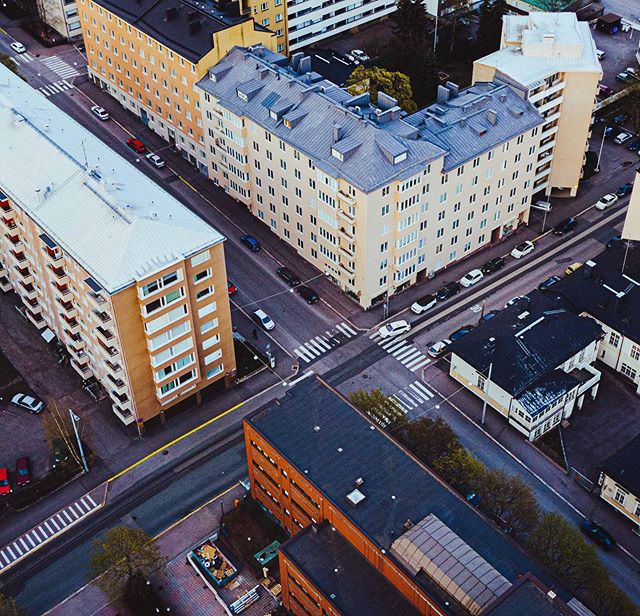building: (1, 72, 237, 429), (210, 53, 548, 287), (87, 1, 275, 161)
crosswalk: (295, 315, 360, 367), (368, 319, 433, 371), (368, 372, 433, 424)
street: (25, 56, 359, 379), (8, 367, 344, 612), (369, 205, 639, 400)
